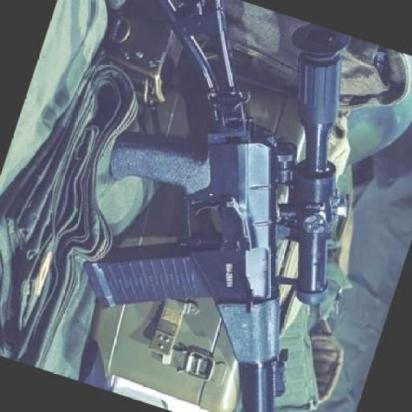Gun: (61, 0, 412, 412)
